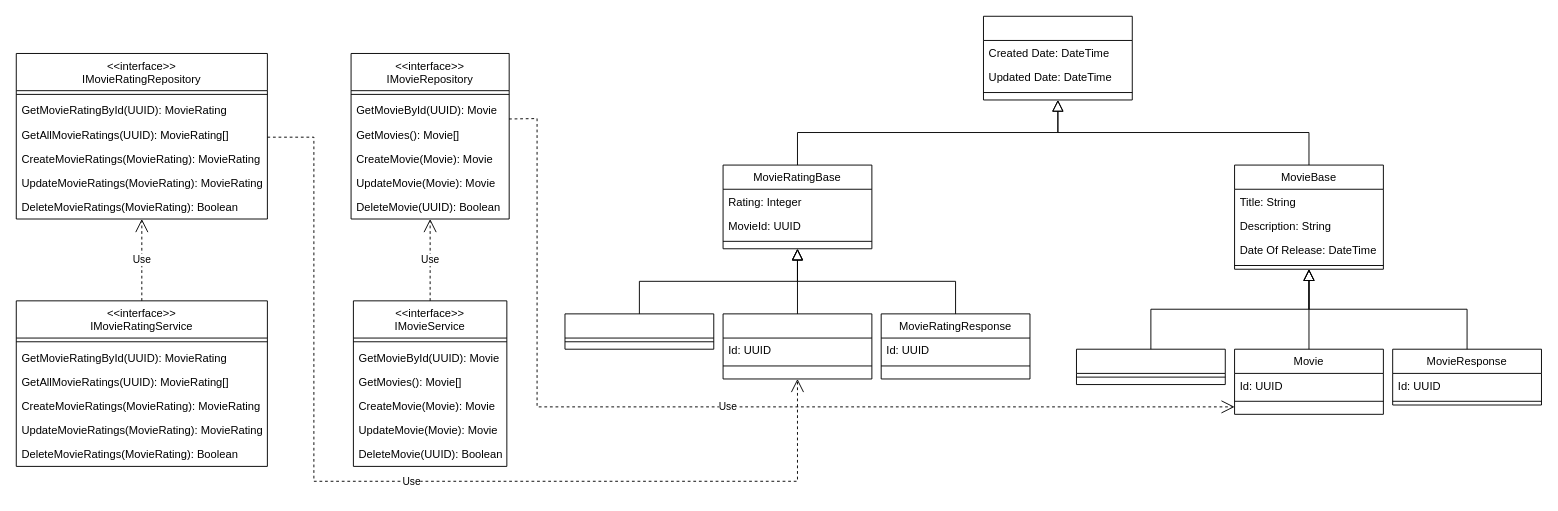
The diagram is 1558 pixels wide and 511 high, and some of its shapes have lost their labels. The shapes that lost their labels are listed below. From the top down, each one's box as (x1, y1, x2, y2) in pixels, then its label:
(983, 15, 1132, 100): Trackable
(564, 313, 714, 349): MovieRatingRequest
(722, 313, 872, 379): MovieRating
(1076, 348, 1225, 385): MovieRequest
